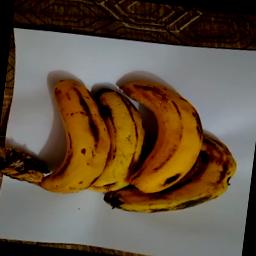Banana Unripe: (4, 67, 248, 224)
